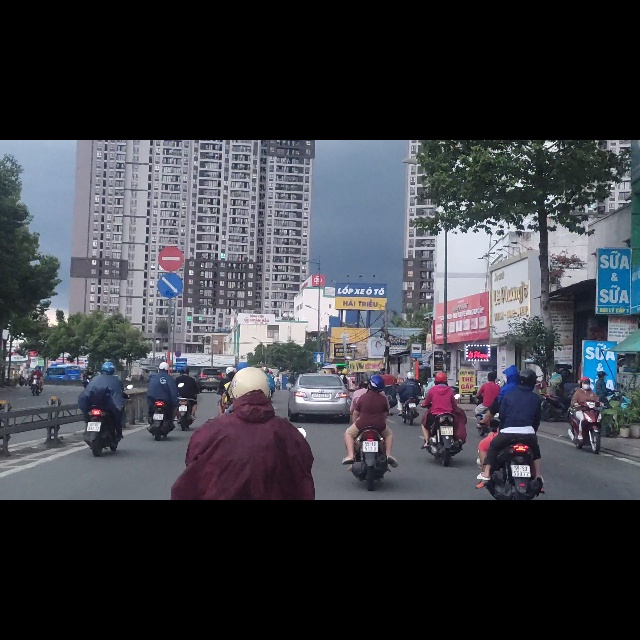bien_hieu_lenh: (158, 185, 186, 235), (157, 235, 185, 281), (411, 361, 422, 388), (313, 377, 324, 395)
